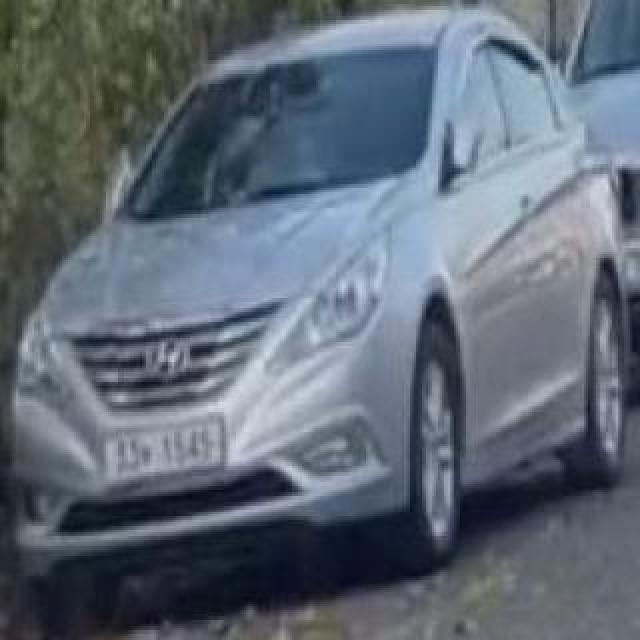car: (1, 7, 640, 595)
illegal_plate: (107, 415, 225, 491)
